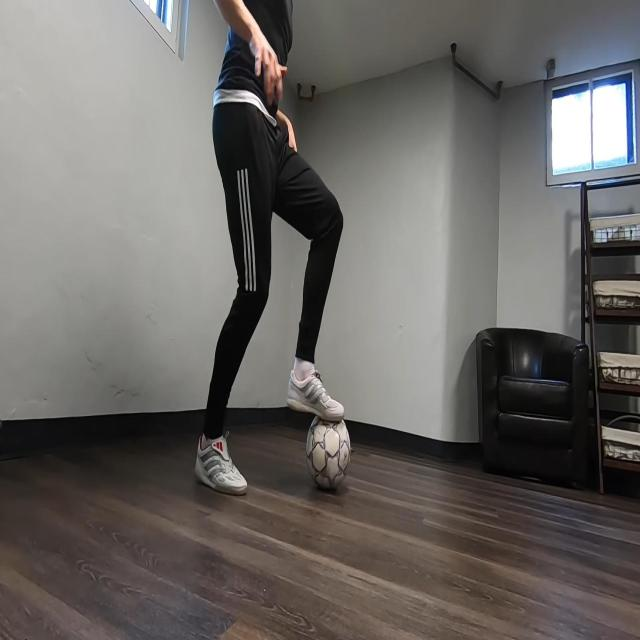Soccer Ball: (306, 410, 351, 493)
